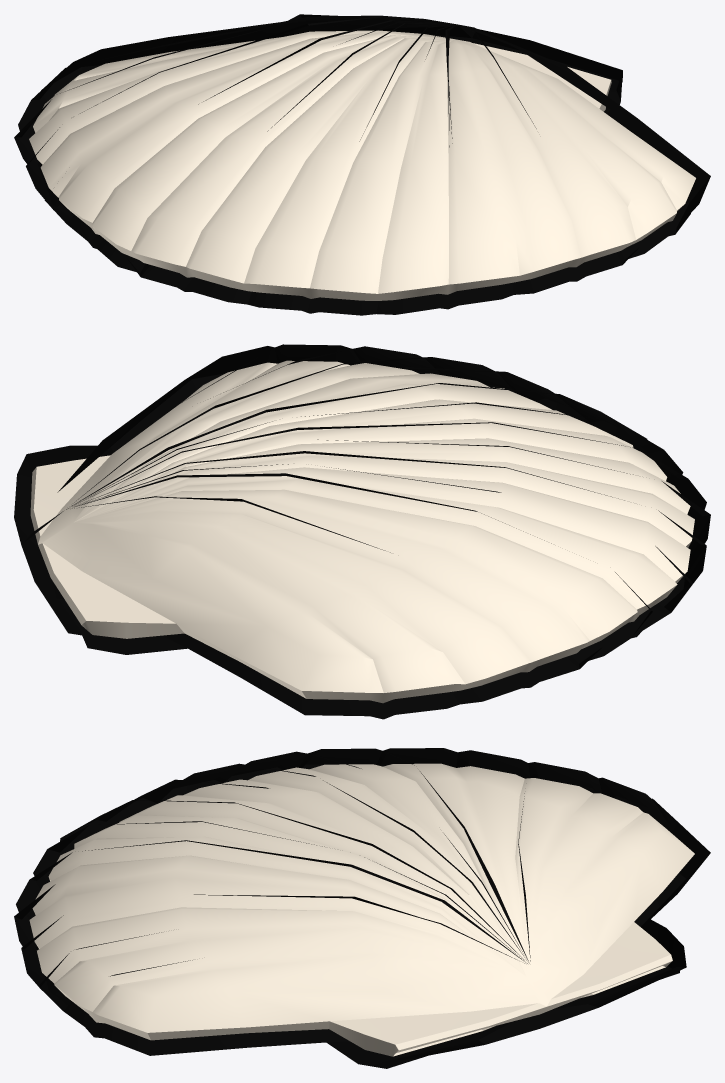
Rendered from shell_2.glb.
The picture shows the model from 3 angles, top to bottom: view 1: azimuth 30°, elevation 25°; view 2: azimuth 150°, elevation 25°; view 3: azimuth 270°, elevation 25°; orthographic projection. The views are drawn at different scales.
Visible parts, largest first — view 1: Sphere.012; view 2: Sphere.012; view 3: Sphere.012.
Part boxes in pixels (<box>): Sphere.012: <box>14,14,710,315</box>; Sphere.012: <box>14,344,710,719</box>; Sphere.012: <box>14,748,710,1068</box>.
Bounding box in the file's own units: 0.6114 × 0.12 × 0.6217.
